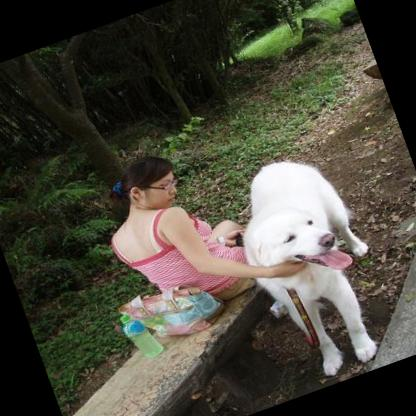Great_Pyrenees: (213, 138, 405, 392)
